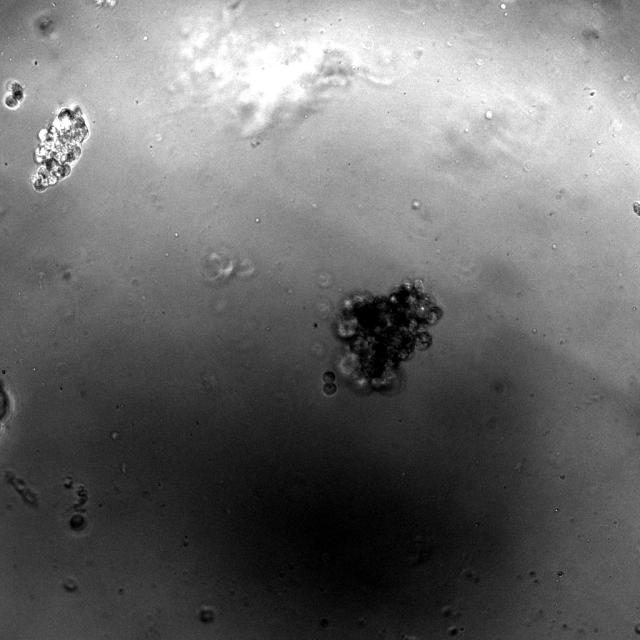organoid: (334, 279, 442, 392), (31, 106, 89, 191), (5, 81, 24, 108), (322, 371, 336, 396), (69, 513, 85, 530)
